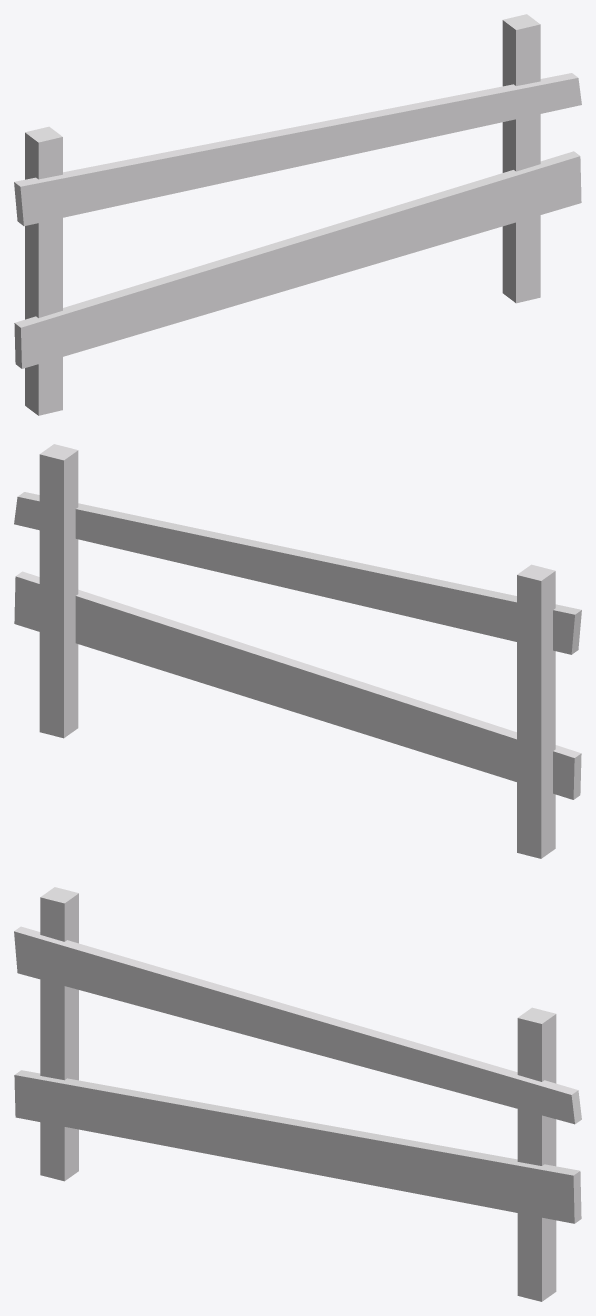
Rendered from SM_fence_010.obj.
3 renders of one model, top to bottom at view 1: azimuth 30°, elevation 25°; view 2: azimuth 150°, elevation 25°; view 3: azimuth 330°, elevation 25°, orthographic.
Parts seen in each view (by area): view 1: SM_fence_010_M_Material; view 2: SM_fence_010_M_Material; view 3: SM_fence_010_M_Material.
Boxes of the visible parts, left/top/right/bottom form: SM_fence_010_M_Material: left=14, top=14, right=581, bottom=415; SM_fence_010_M_Material: left=14, top=444, right=581, bottom=858; SM_fence_010_M_Material: left=14, top=887, right=581, bottom=1301.
Size of the model in its own units: 2.33 by 1.09 by 0.1647.
Materials: 1 (1 with a texture image).
